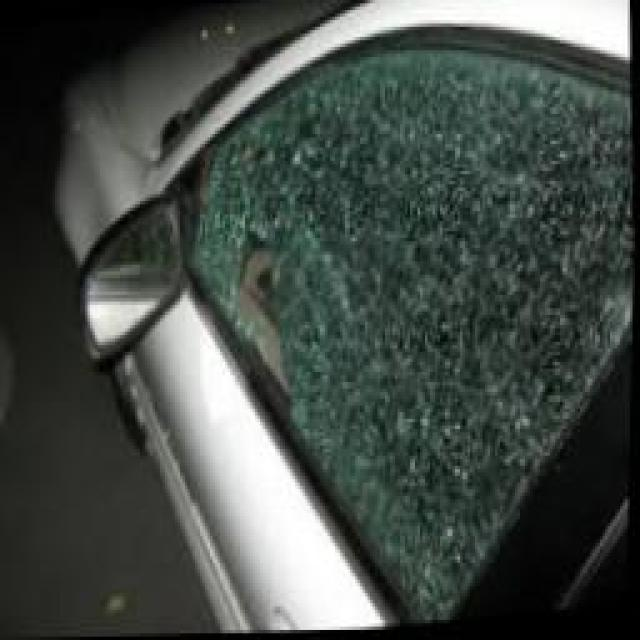replaceable: (199, 126, 559, 392)
